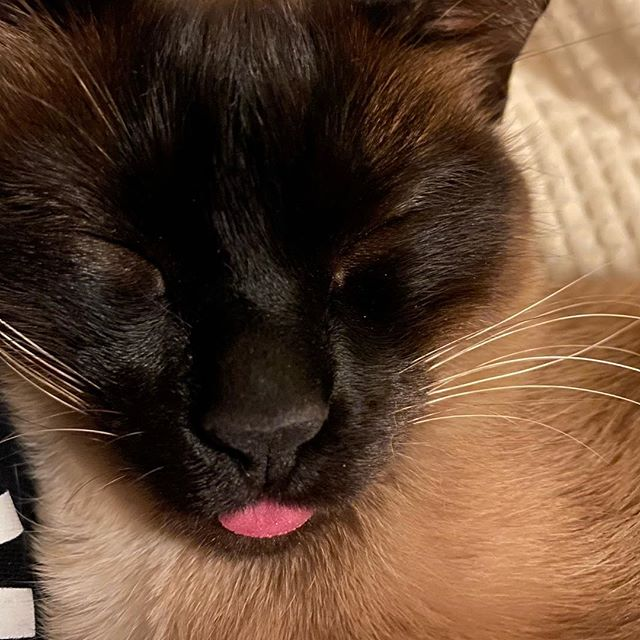cat: (3, 1, 557, 563)
